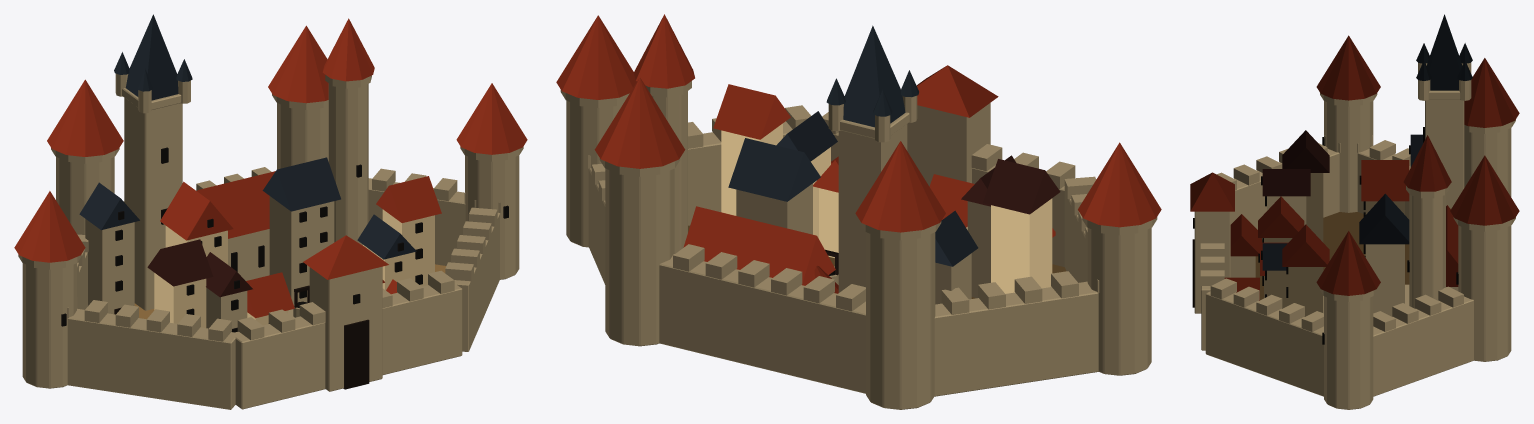
File: settle_3_4.obj
3 renders of one model, left to right at view 1: azimuth 30°, elevation 25°; view 2: azimuth 150°, elevation 25°; view 3: azimuth 270°, elevation 25°, orthographic. The views are drawn at different scales.
Visible parts, largest first — view 1: core_stone, core_roof_civic, core_roof_tile, core_roof_slate, core_plaster, core_roof_tile_old, core_slate, core_window, core_wood_dark; view 2: core_stone, core_roof_civic, core_plaster, core_roof_slate, core_roof_tile, core_slate, core_roof_tile_old; view 3: core_stone, core_roof_civic, core_roof_tile, core_plaster, core_roof_slate, core_roof_tile_old, core_slate, core_cloth, core_window.
Boxes of the visible parts, box(x1,y1,x2,y2) form: core_stone: box(18, 73, 523, 409); core_roof_civic: box(14, 18, 527, 279); core_roof_tile: box(160, 176, 441, 318); core_roof_slate: box(79, 157, 416, 259); core_plaster: box(154, 209, 434, 327); core_roof_tile_old: box(147, 239, 252, 297); core_slate: box(114, 14, 192, 100); core_window: box(61, 147, 508, 332); core_wood_dark: box(114, 285, 369, 389); core_stone: box(560, 81, 1157, 409); core_roof_civic: box(556, 14, 1161, 293); core_plaster: box(721, 123, 1052, 293); core_roof_slate: box(728, 111, 978, 266); core_roof_tile: box(713, 84, 1055, 237); core_slate: box(826, 25, 918, 127); core_roof_tile_old: box(961, 155, 1060, 214); core_stone: box(1194, 62, 1515, 409); core_roof_civic: box(1190, 35, 1519, 295); core_roof_tile: box(1224, 160, 1409, 300); core_plaster: box(1264, 173, 1404, 316); core_roof_slate: box(1262, 134, 1423, 270); core_roof_tile_old: box(1262, 130, 1329, 196); core_slate: box(1416, 14, 1472, 90); core_cloth: box(1255, 212, 1409, 300); core_window: box(1193, 127, 1458, 344).
Size of the model in its own units: 1.87 by 1.02 by 1.17.
